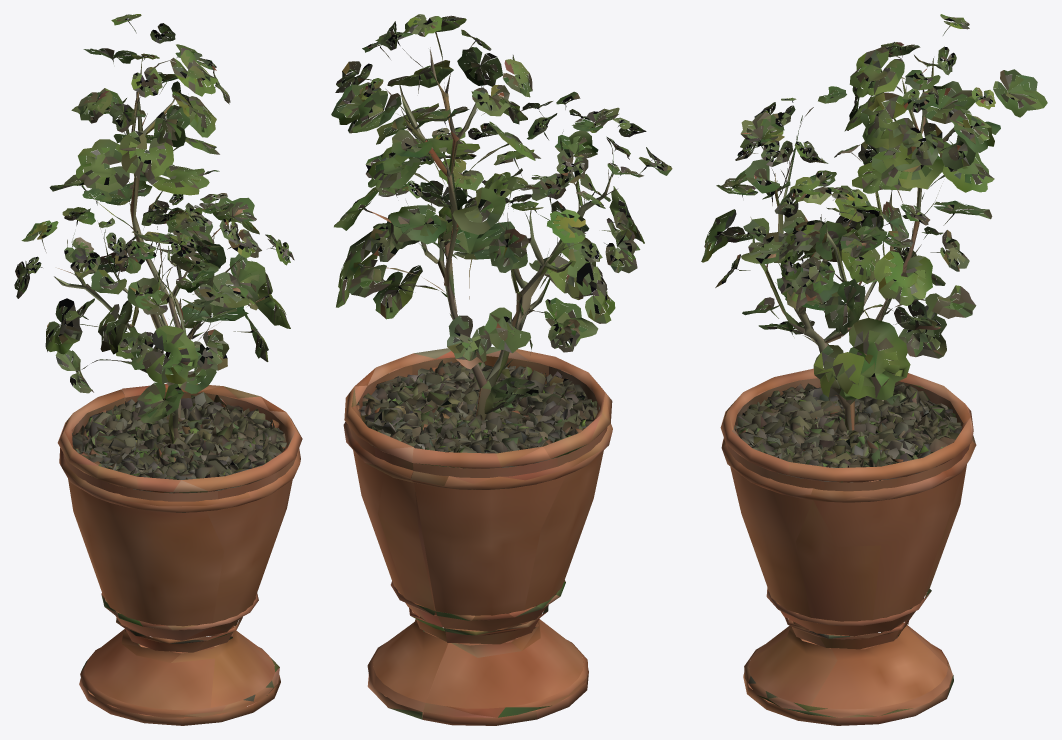
Rendered from potted_tree.glb.
3 views of the same model, side by side, from view 1: azimuth 30°, elevation 25°; view 2: azimuth 150°, elevation 25°; view 3: azimuth 270°, elevation 25° (orthographic). The views are drawn at different scales.
Parts seen in each view (by area): view 1: potted_tree; view 2: potted_tree; view 3: potted_tree.
Part boxes in pixels (x1=…): potted_tree: x1=14, y1=14, x2=302, y2=725; potted_tree: x1=331, y1=14, x2=672, y2=725; potted_tree: x1=701, y1=14, x2=1047, y2=725.
Size of the model in its own units: 0.9538 by 2.18 by 1.03.
Materials: 1 (1 with a texture image).
